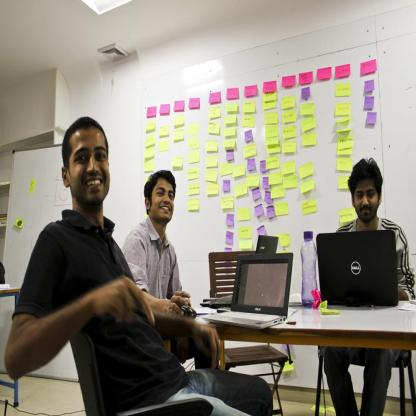board: (202, 253, 292, 332), (316, 230, 399, 306), (300, 230, 318, 304)
